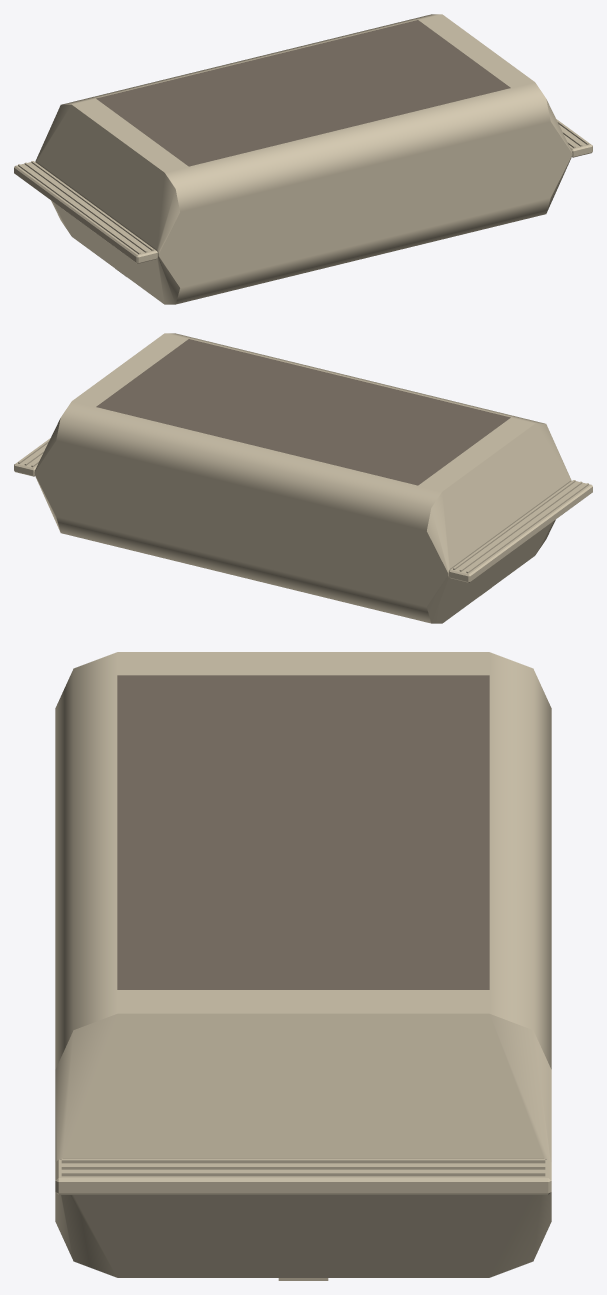
Rendered from snack-cake-pack-d7e119e38329.glb.
3 renders of one model, top to bottom at view 1: azimuth 30°, elevation 25°; view 2: azimuth 150°, elevation 25°; view 3: azimuth 270°, elevation 25°, orthographic. The views are drawn at different scales.
Parts seen in each view (by area): view 1: paper, cover-print; view 2: paper, cover-print; view 3: paper, cover-print.
Boxes of the visible parts, x1,y1,x2,y2 form: paper: (14,14,592,304); cover-print: (96,20,510,166); paper: (14,333,592,623); cover-print: (96,339,510,485); paper: (55,652,551,1280); cover-print: (117,675,489,989).
Size of the model in its own units: 0.17 by 0.0481 by 0.08.
